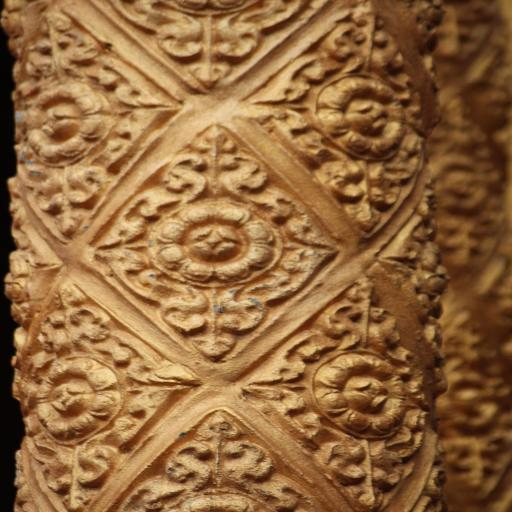hoa: (105, 127, 326, 345), (281, 16, 439, 224), (288, 289, 434, 512), (13, 288, 166, 492), (12, 17, 156, 231), (92, 0, 338, 82), (145, 407, 301, 512), (399, 194, 455, 317), (0, 218, 54, 307)
